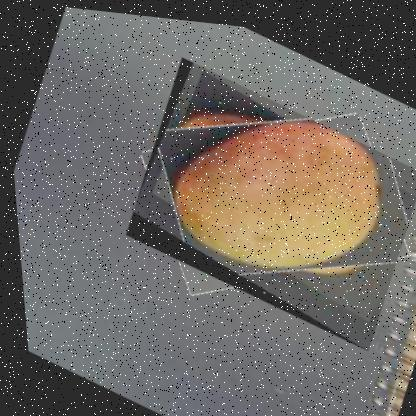mango: (108, 44, 415, 349)
